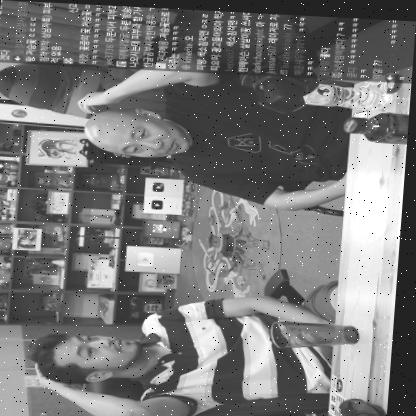streamer: (25, 265, 342, 416), (71, 45, 356, 209)
